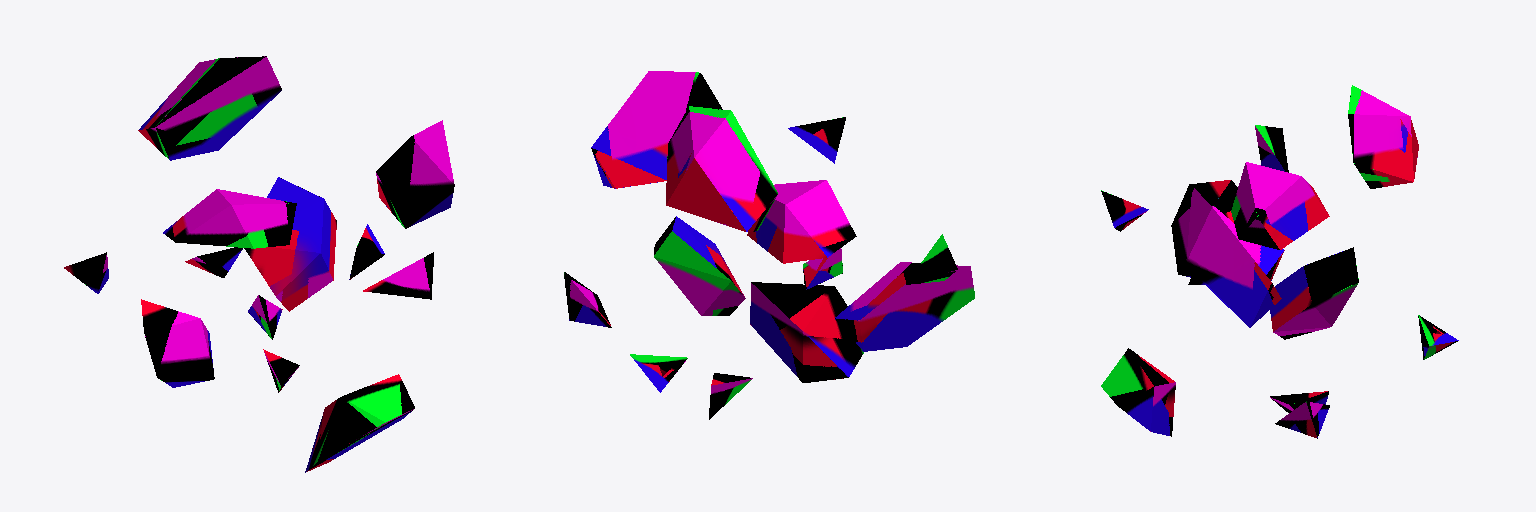
3 renders of one model, left to right at view 1: azimuth 30°, elevation 25°; view 2: azimuth 150°, elevation 25°; view 3: azimuth 270°, elevation 25°, orthographic.
Visible parts, largest first — view 1: Asteroid_S_2_Icosphere.007; view 2: Asteroid_S_2_Icosphere.007; view 3: Asteroid_S_2_Icosphere.007.
Boxes of the visible parts, x1,y1,x2,y2 form: Asteroid_S_2_Icosphere.007: [64, 56, 454, 472]; Asteroid_S_2_Icosphere.007: [564, 71, 974, 419]; Asteroid_S_2_Icosphere.007: [1101, 85, 1458, 438].
Bounding box in the file's own units: 2.32 × 1.99 × 1.88.
1 materials, 1 textured.